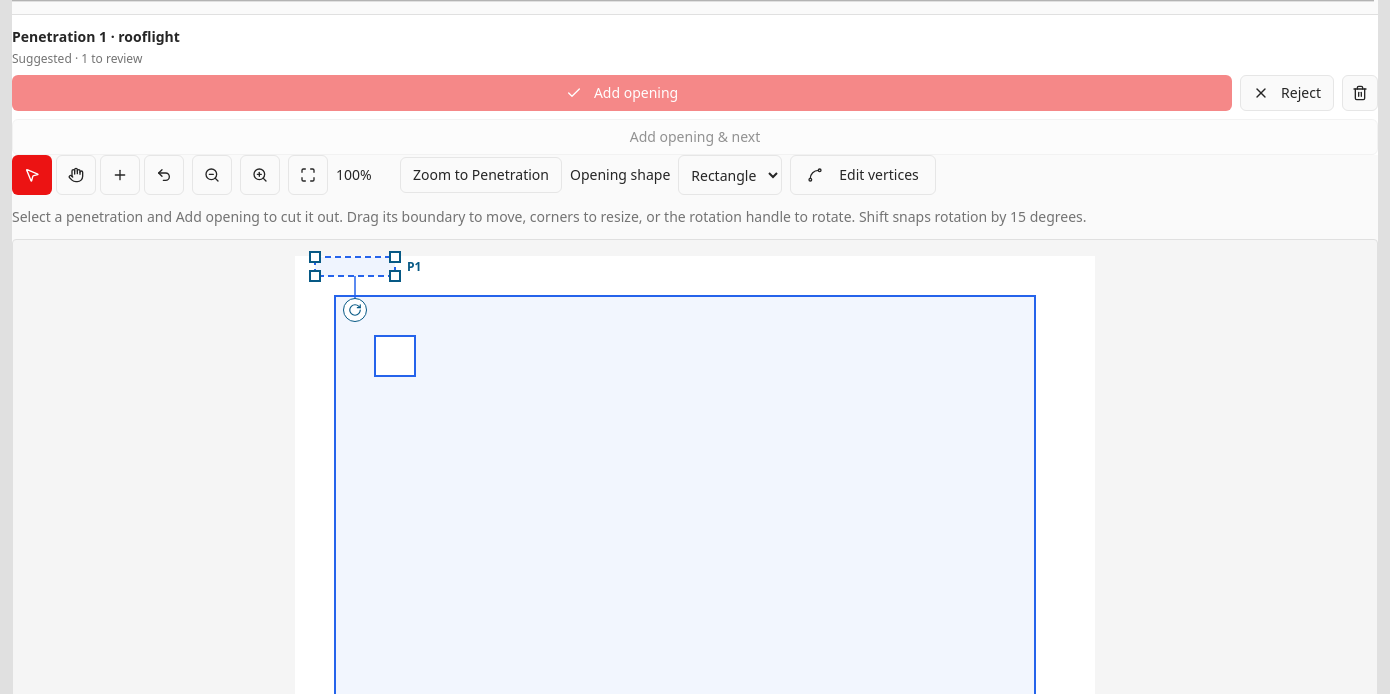
Test: polygon penetration review › keeps the handle on the page near an edge and rejects an off-page rotation
The width and height of the screenshot is (1390, 694).
(page scrolled)
Press the mouse on the button named "Rotate Penetration 1": [355, 310] box [343,298,367,322]
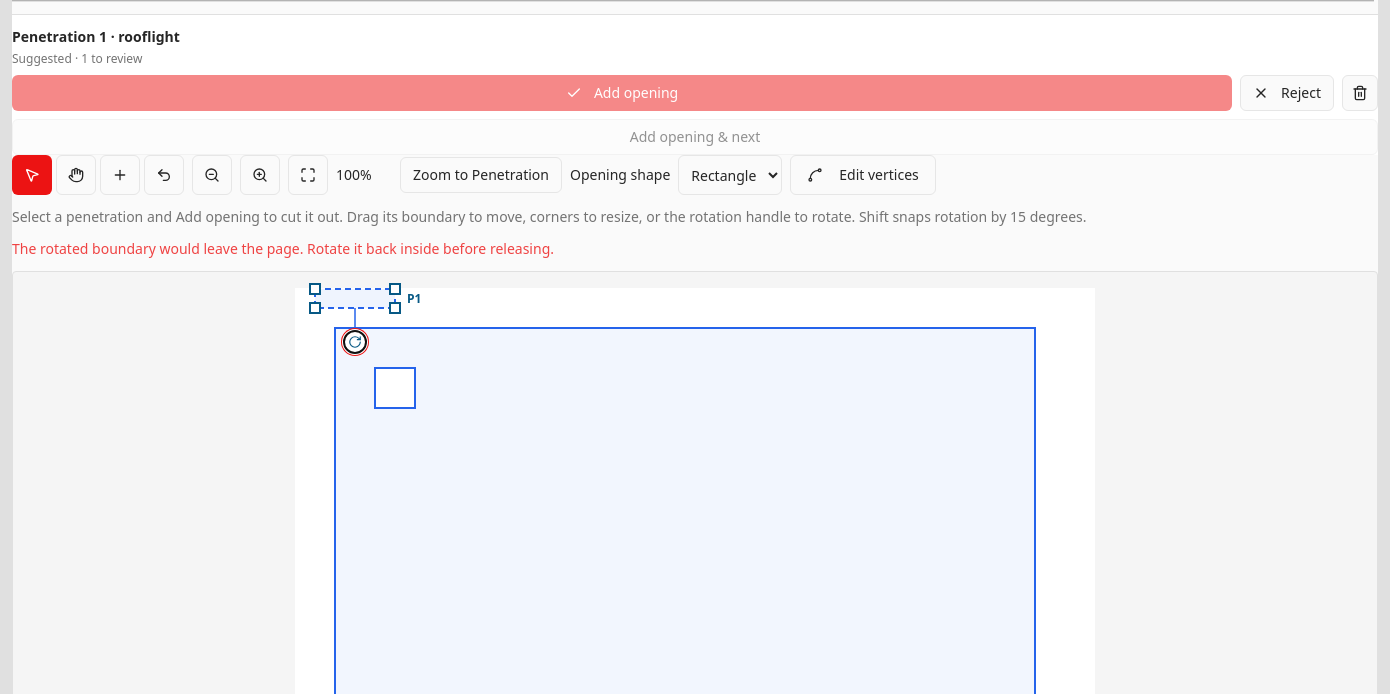
Expected: the 2nd message shows "leave the page", [12,239,554,258]
